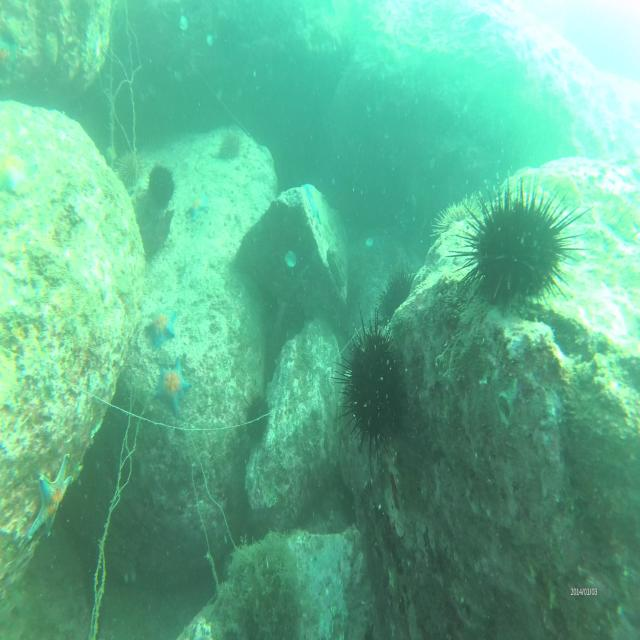echinus: (465, 186, 568, 312), (344, 329, 406, 438), (378, 265, 413, 320), (146, 163, 176, 209), (245, 392, 270, 443), (116, 149, 142, 188), (219, 133, 242, 164)
starfish: (29, 450, 75, 546), (152, 359, 189, 410), (0, 148, 32, 195), (146, 310, 178, 354), (302, 182, 324, 225), (185, 192, 208, 224)
